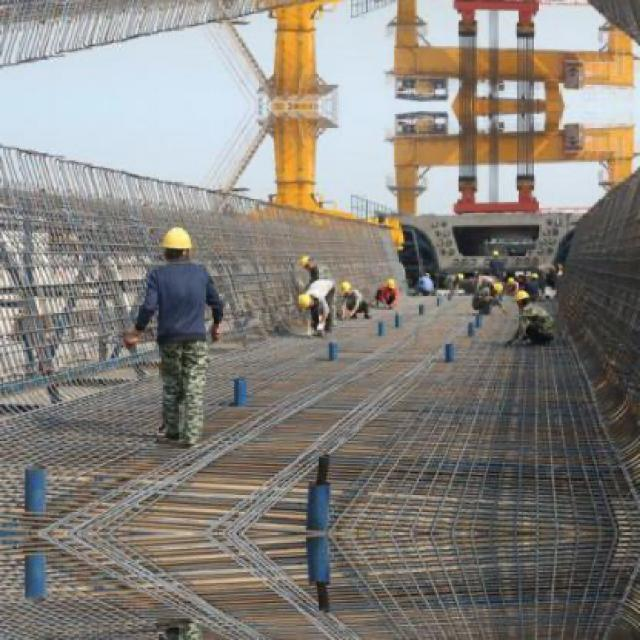helmet: (158, 224, 194, 265), (514, 285, 535, 307), (295, 291, 317, 310), (337, 279, 358, 298), (295, 253, 317, 271), (488, 278, 508, 296), (386, 276, 397, 290)
